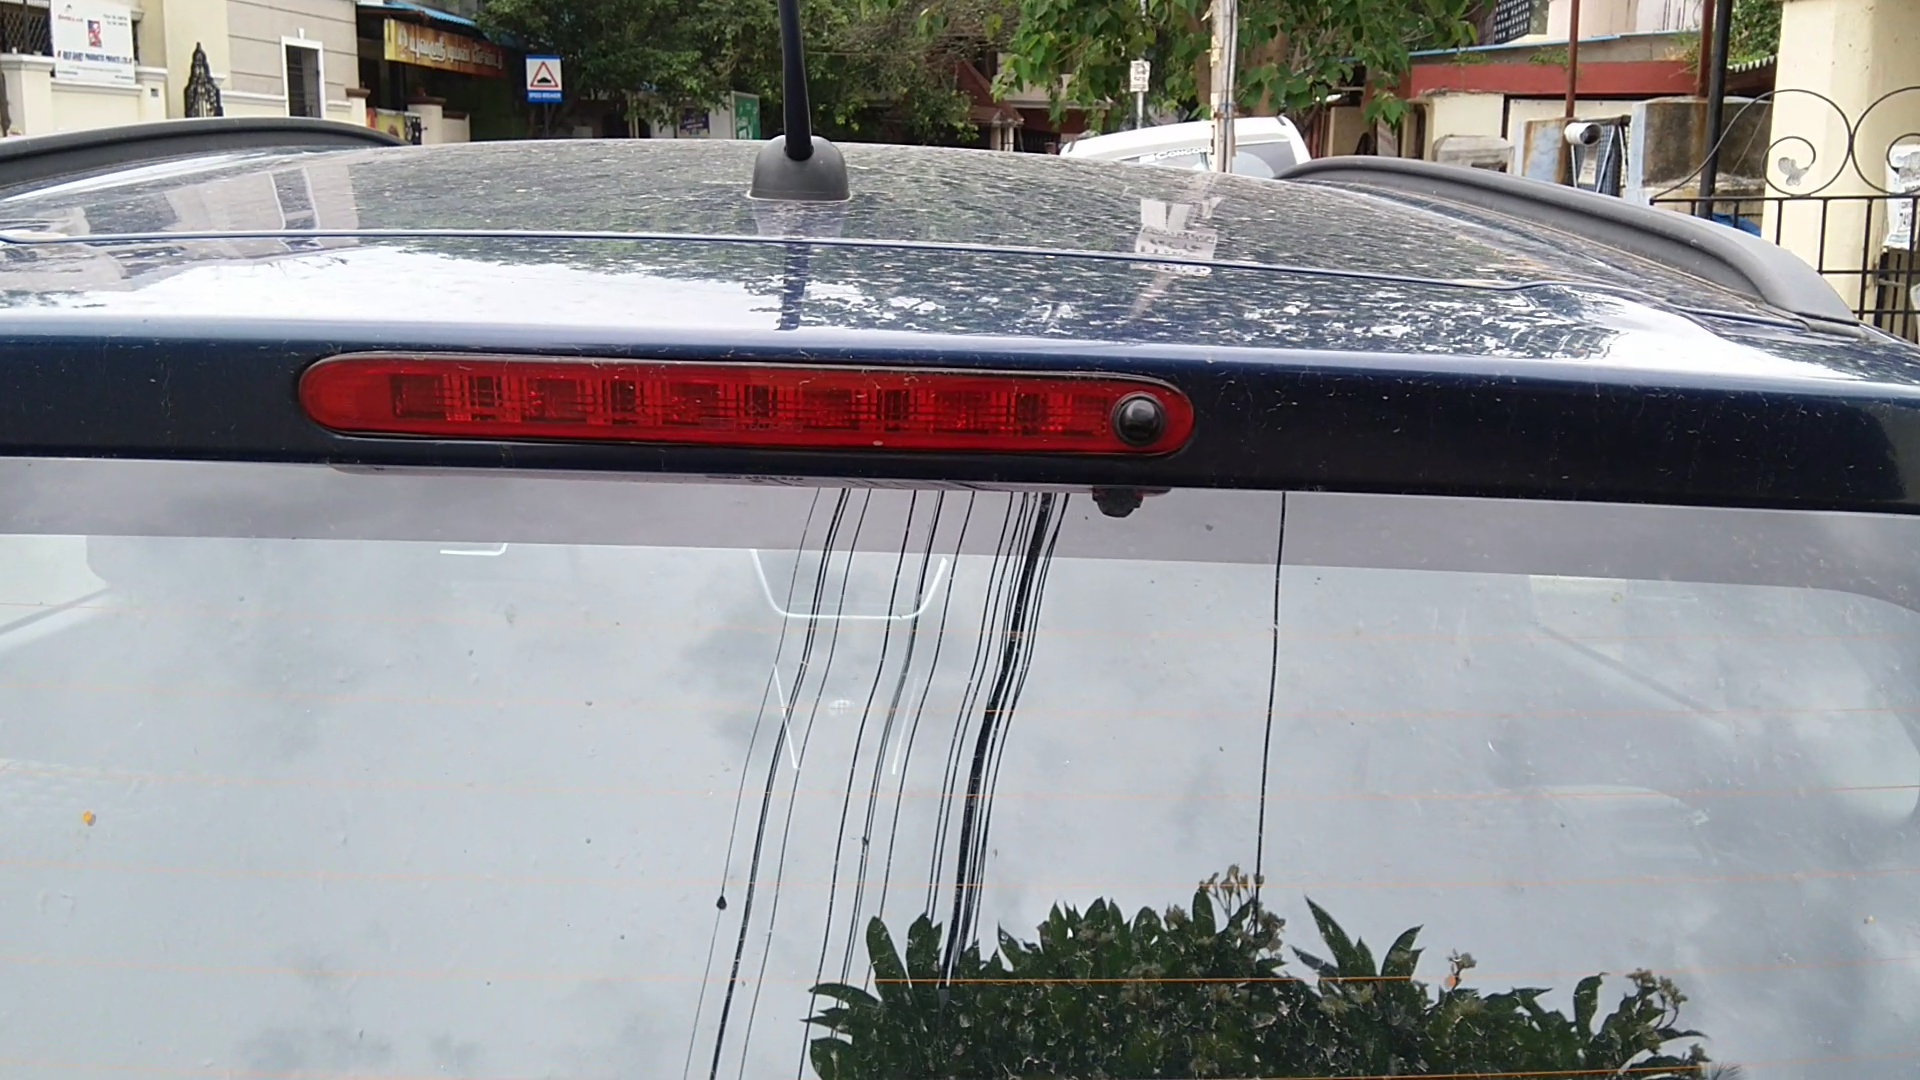rear_camera: (1100, 375, 1182, 463)
